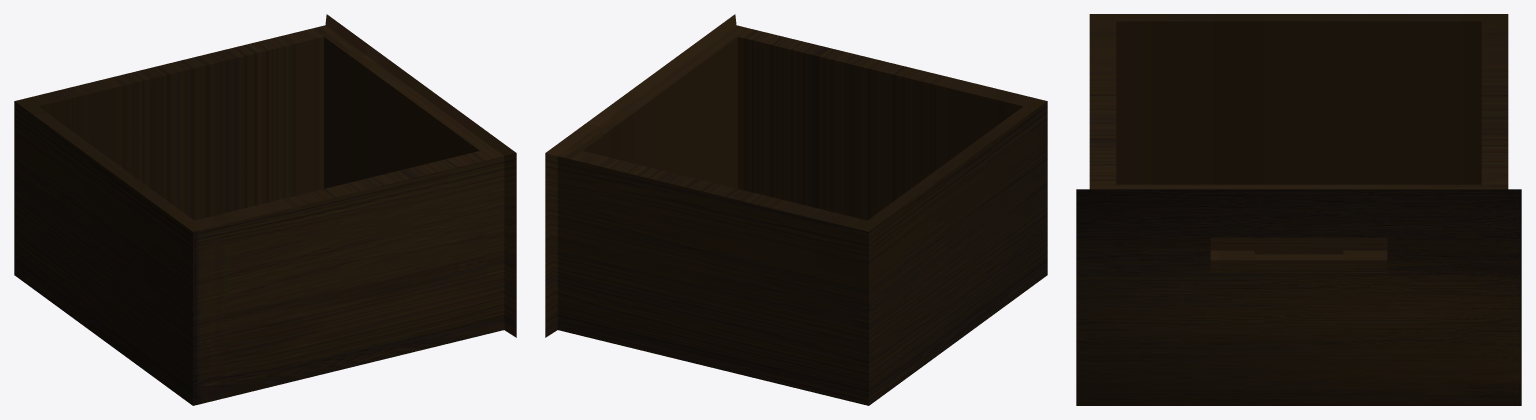
The model's file is cajon.obj.
The picture shows the model from 3 angles, left to right: view 1: azimuth 30°, elevation 25°; view 2: azimuth 150°, elevation 25°; view 3: azimuth 270°, elevation 25°; orthographic projection. The views are drawn at different scales.
Visible parts, largest first — view 1: Cajon_Cube.047; view 2: Cajon_Cube.047; view 3: Cajon_Cube.047.
Boxes of the visible parts, left/top/right/bottom form: Cajon_Cube.047: left=14, top=14, right=516, bottom=405; Cajon_Cube.047: left=545, top=14, right=1047, bottom=405; Cajon_Cube.047: left=1076, top=14, right=1521, bottom=405.
Size of the model in its own units: 0.5473 by 0.289 by 0.5383.
